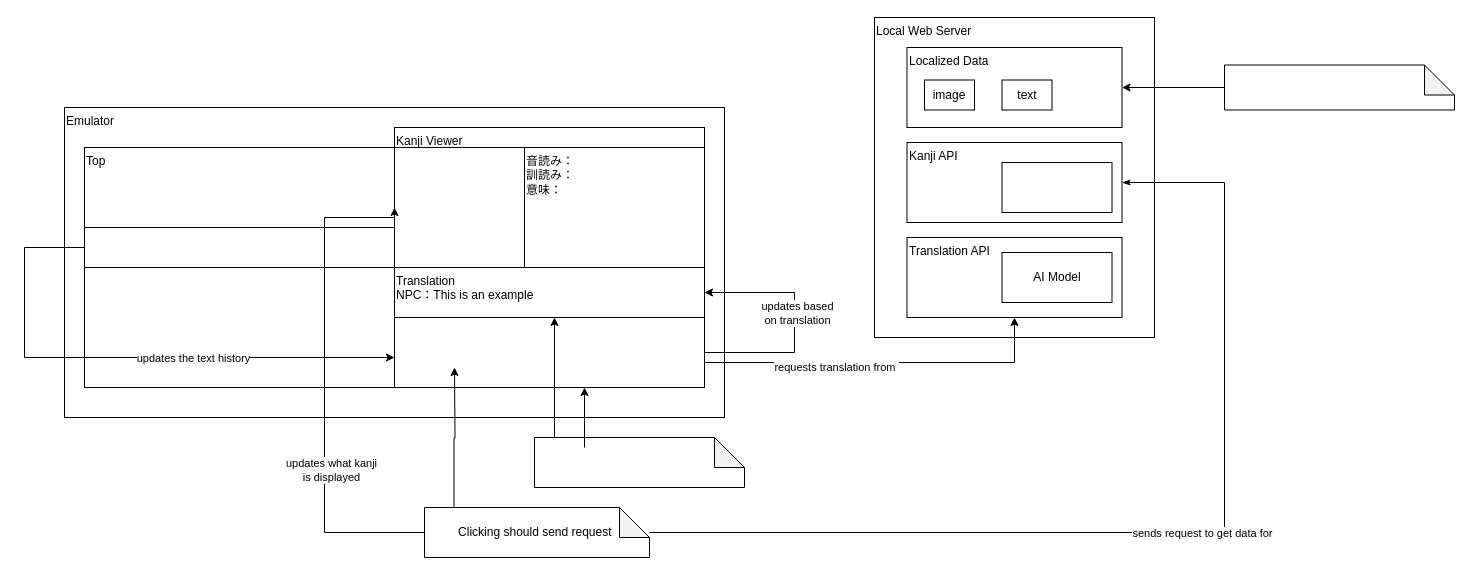
This 1472x575 diagram has some shape labels left out. Here are the shapes that lost their labels. From the top down, the centre of each, then its label:
the point at 1339,87: consideration if we should store text and image data?
the point at 459,207: 漢字
the point at 1056,187: Kanji JSON Database
the point at 239,247: Current Text Box NPC：This is an example
the point at 239,327: Bottom
the point at 549,352: Text History NPC: たとえば NPC: 「漢字」
the point at 639,462: Both should be scrollable
